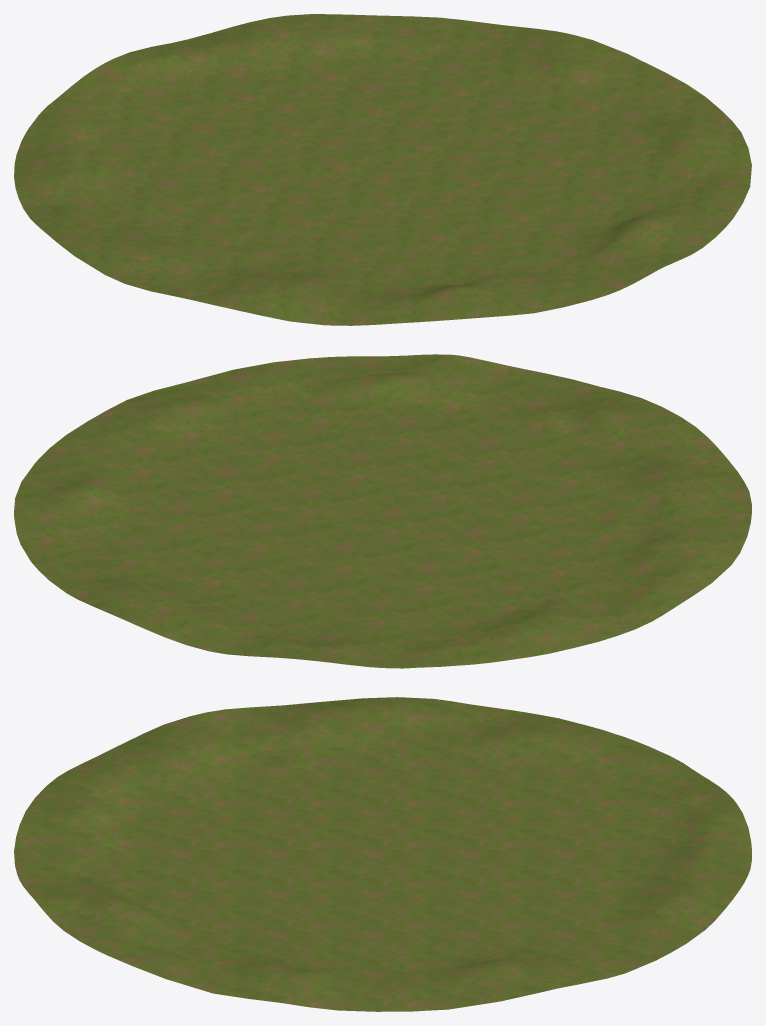
Rendered from EP1_bigTerrain01.fbx.
3 views of the same model, one above another, from view 1: azimuth 30°, elevation 25°; view 2: azimuth 150°, elevation 25°; view 3: azimuth 270°, elevation 25° (orthographic).
Parts seen in each view (by area): view 1: bigTerrain01; view 2: bigTerrain01; view 3: bigTerrain01.
Part boxes in pixels (<box>): bigTerrain01: <box>14,14,751,325</box>; bigTerrain01: <box>14,354,751,668</box>; bigTerrain01: <box>14,697,751,1011</box>.
Bounding box in the file's own units: 803 × 13.82 × 803.
